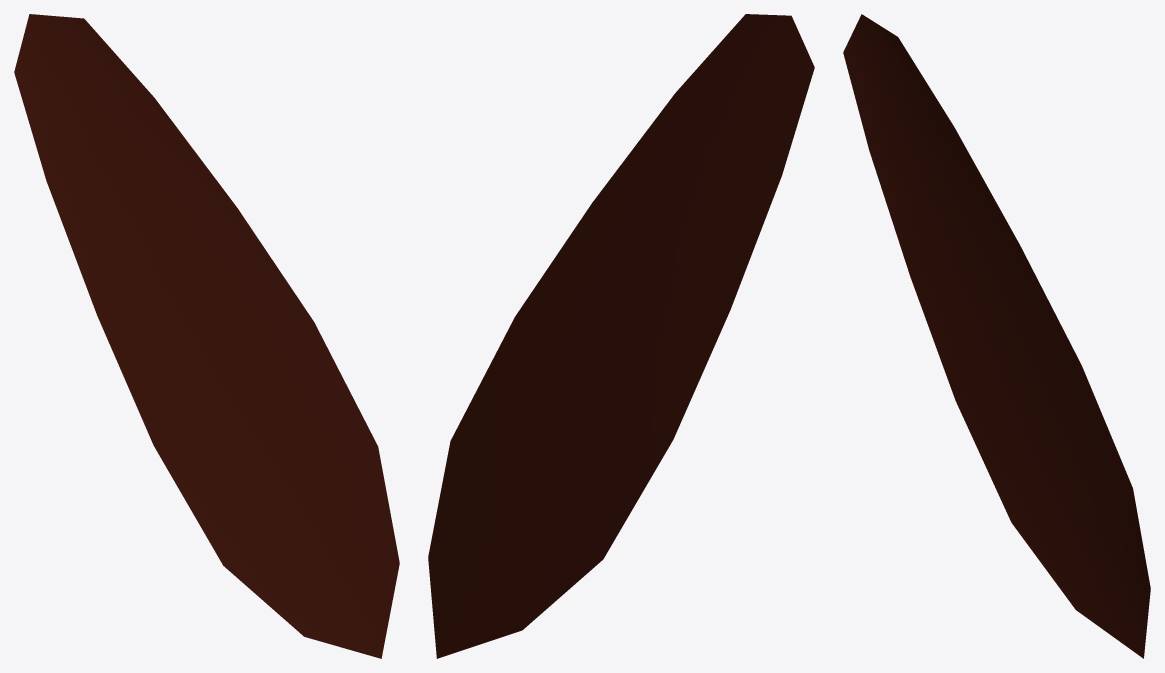
Rendered from pheasant_feather_flight_secondary_037.obj.
3 views of the same model, side by side, from view 1: azimuth 30°, elevation 25°; view 2: azimuth 150°, elevation 25°; view 3: azimuth 330°, elevation 25° (orthographic). The views are drawn at different scales.
Parts seen in each view (by area): view 1: feather_flight_secondary_037; view 2: feather_flight_secondary_037; view 3: feather_flight_secondary_037.
Boxes of the visible parts, x1,y1,x2,y2 form: feather_flight_secondary_037: (14,14,399,658); feather_flight_secondary_037: (428,14,814,658); feather_flight_secondary_037: (843,14,1150,658).
Size of the model in its own units: 0.0329 by 0.0595 by 0.00106.
